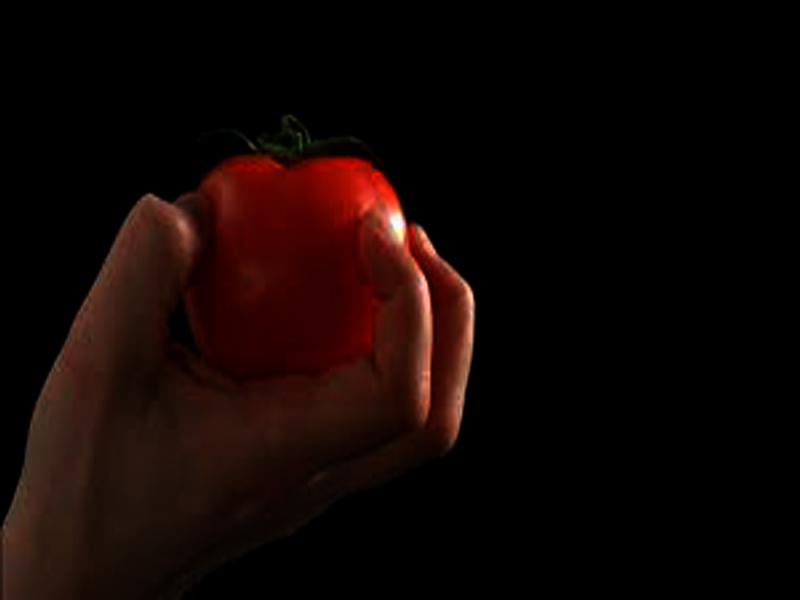Tomato: (184, 118, 406, 371)
